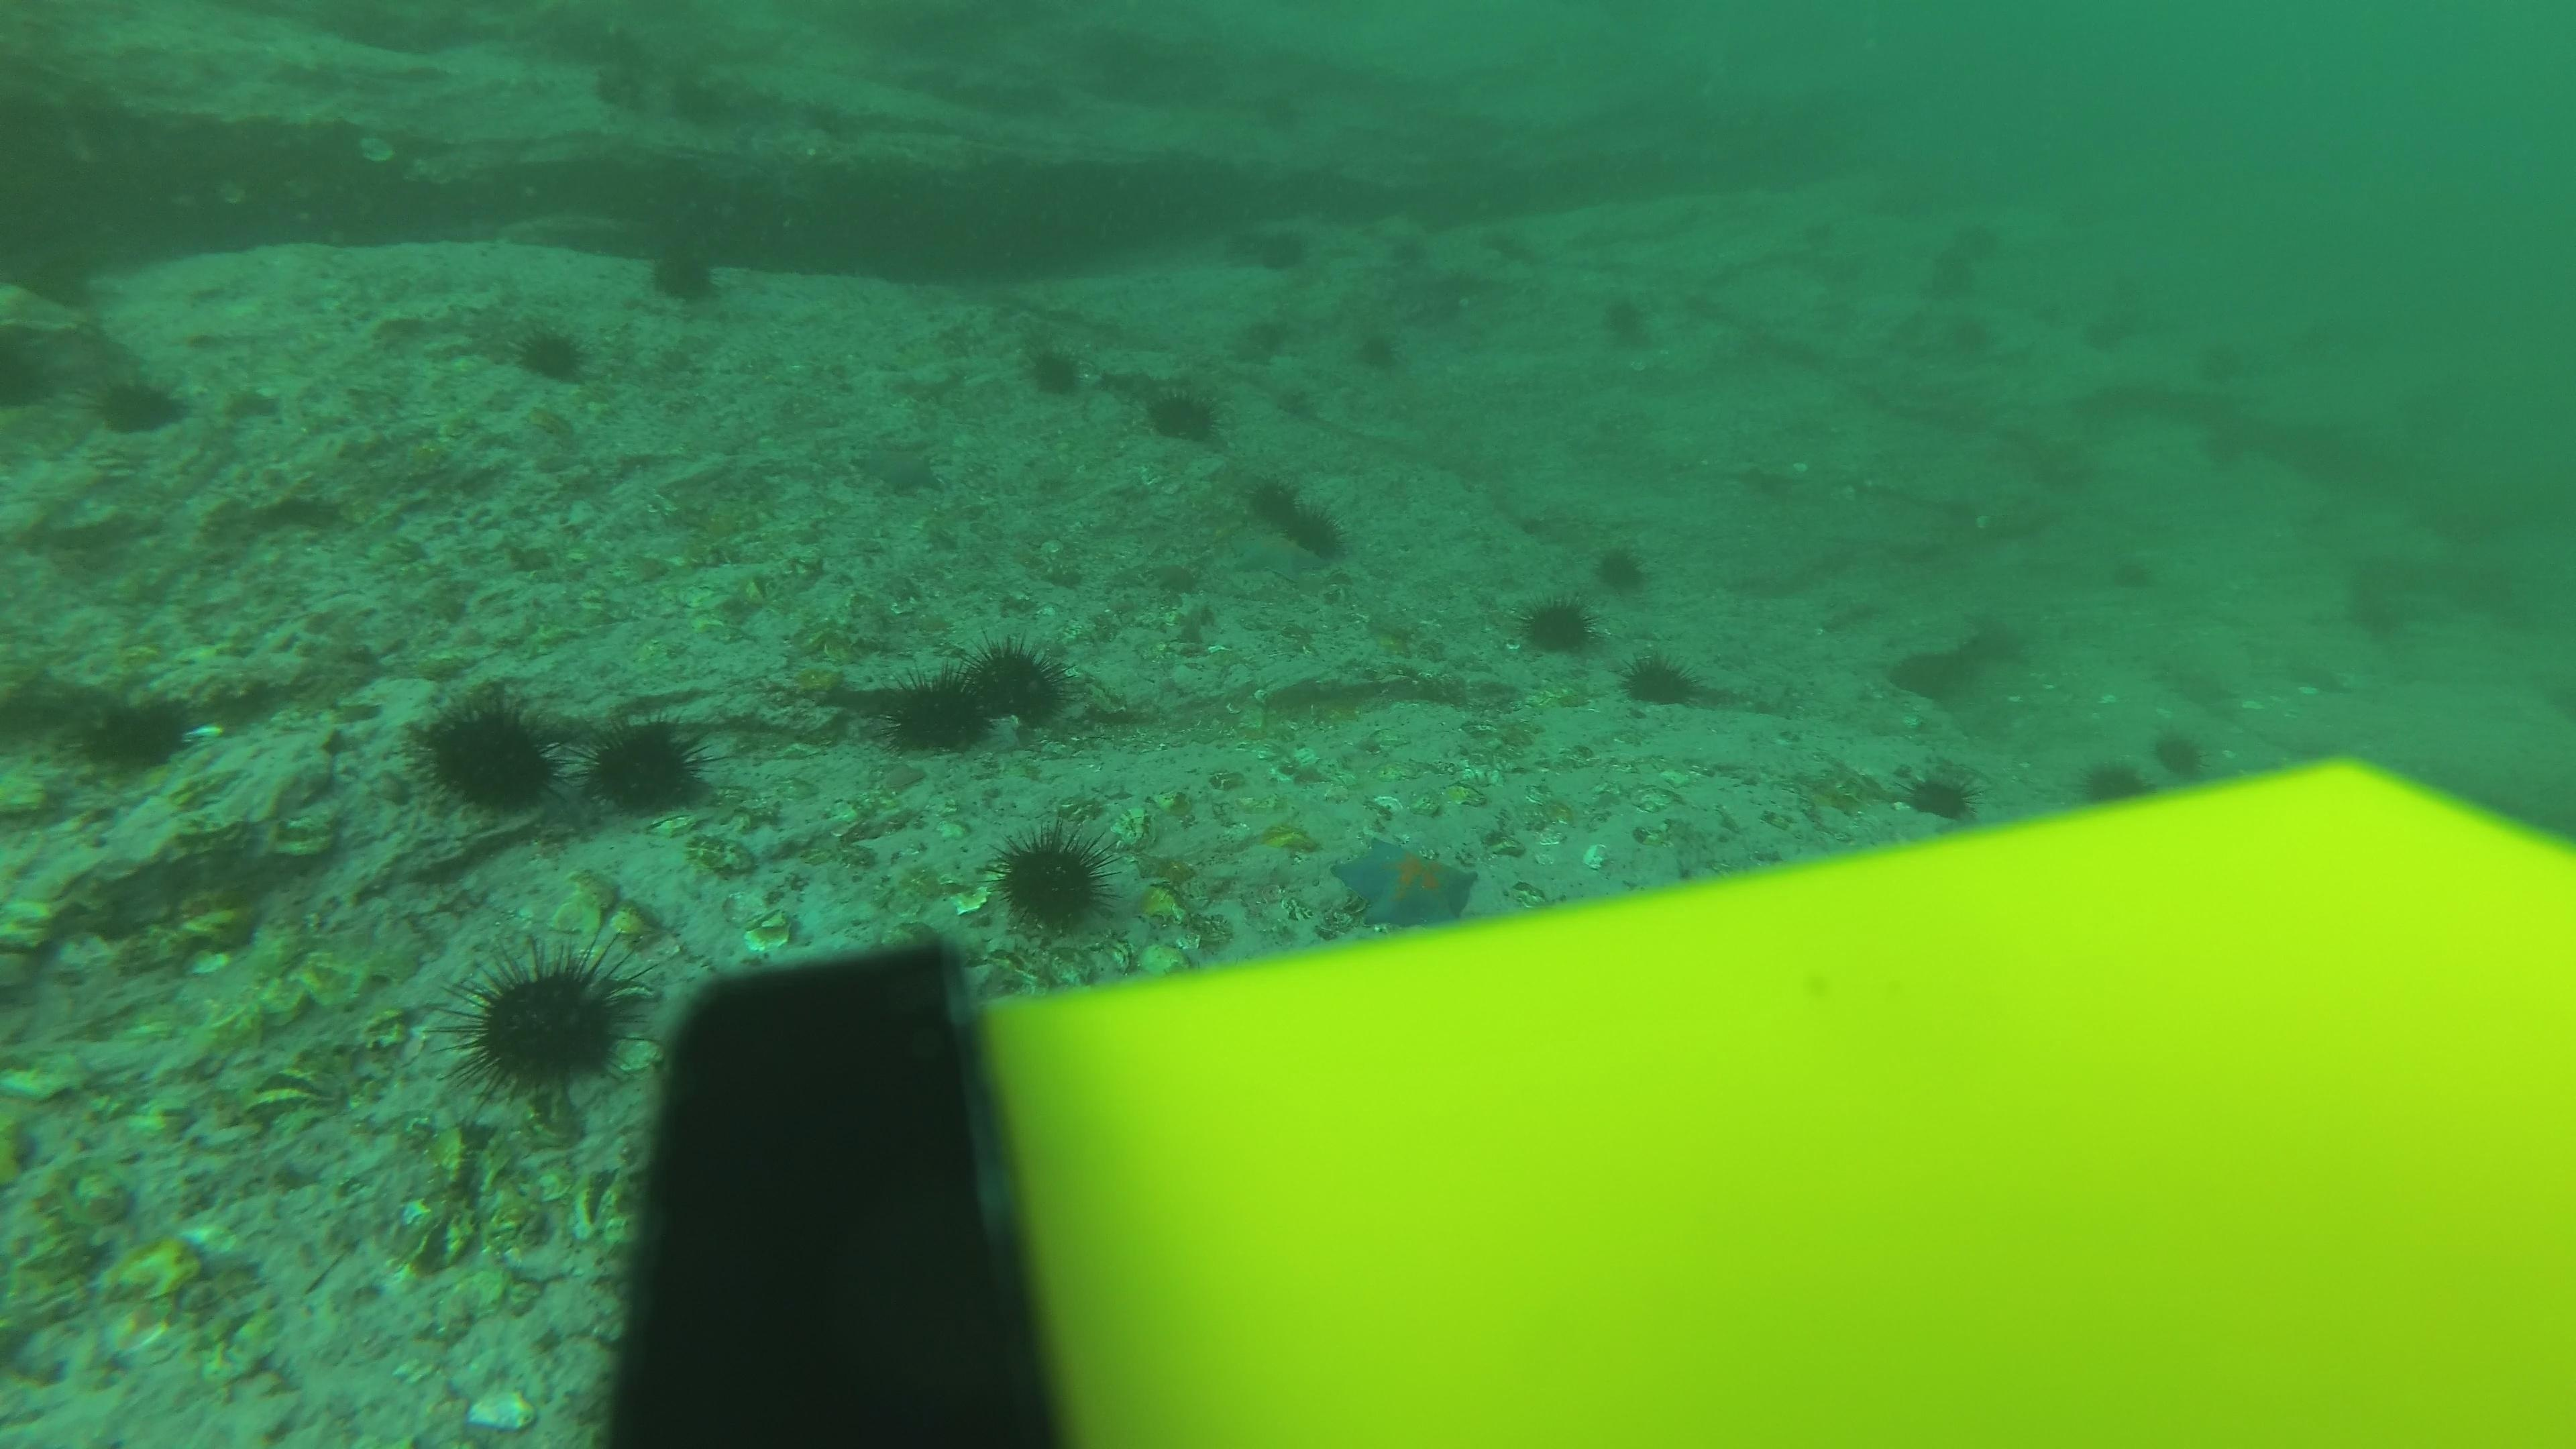echinus: (449, 934, 649, 1100), (409, 686, 564, 821), (985, 821, 1122, 939), (582, 711, 717, 823), (62, 683, 202, 778), (872, 660, 994, 763), (966, 633, 1088, 734), (87, 364, 189, 441), (639, 232, 732, 311), (504, 315, 596, 391), (1138, 375, 1228, 449), (1509, 589, 1599, 662), (1615, 648, 1704, 717), (1898, 759, 1985, 828), (2070, 750, 2158, 814), (1016, 334, 1093, 405), (1591, 285, 1663, 356), (2146, 722, 2217, 787), (2105, 536, 2176, 602), (2181, 423, 2252, 488), (2070, 295, 2141, 361), (2187, 336, 2259, 400), (2344, 577, 2415, 640), (1589, 536, 1652, 598), (4, 363, 67, 421), (1350, 322, 1410, 379), (1256, 81, 1313, 138), (1376, 219, 1433, 276), (1253, 228, 1309, 285), (1244, 472, 1300, 527), (1286, 501, 1343, 556), (660, 74, 717, 129), (1928, 249, 1987, 294), (1789, 209, 1847, 253), (1951, 211, 2008, 255), (1943, 317, 2001, 359), (1868, 189, 1927, 232), (1867, 188, 1925, 230)
starfish: (1329, 832, 1483, 934), (1215, 525, 1330, 587), (849, 433, 950, 501), (1790, 763, 1877, 828), (1238, 807, 1323, 860)
